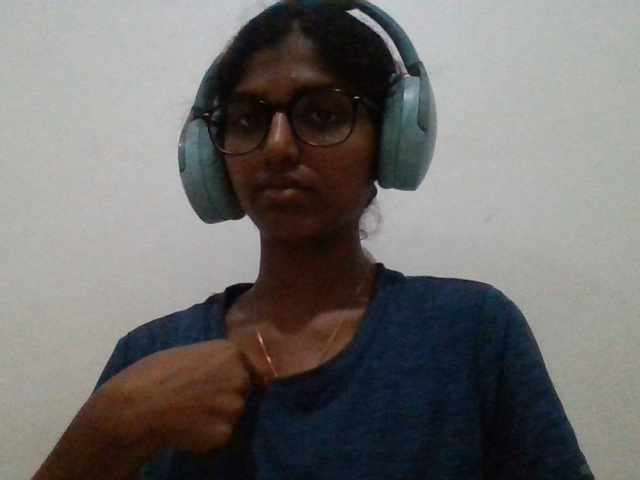Me: (84, 336, 305, 480)
